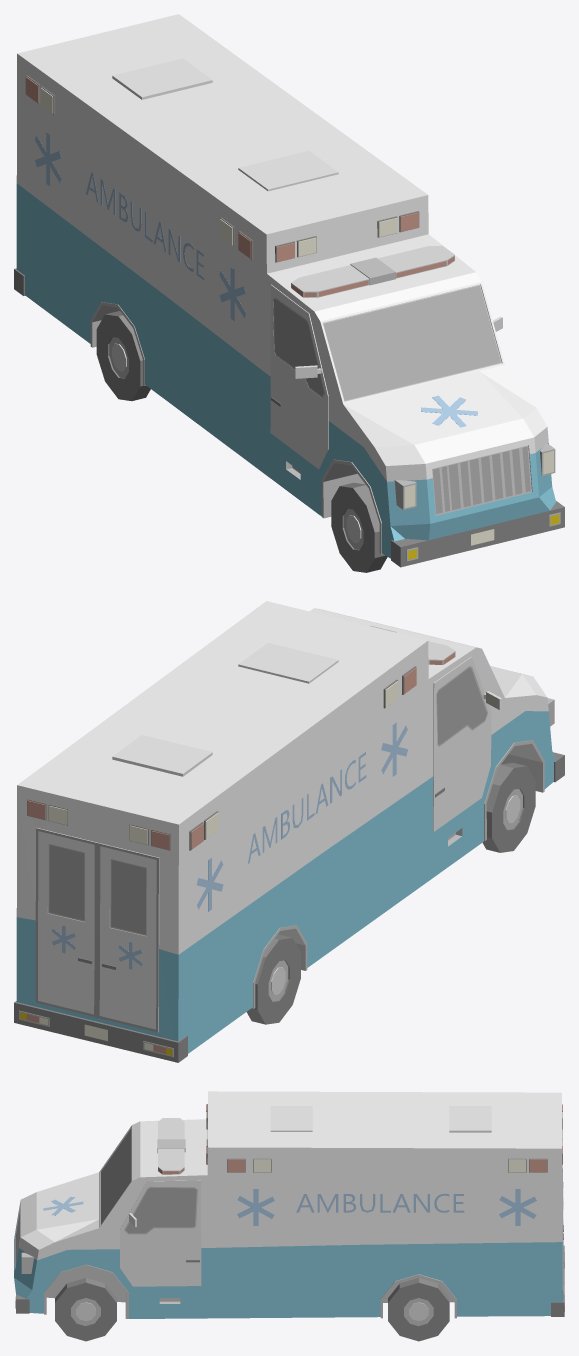
File: Ambulance_1.fbx
3 views of the same model, one above another, from view 1: azimuth 30°, elevation 25°; view 2: azimuth 150°, elevation 25°; view 3: azimuth 270°, elevation 25° (orthographic). The views are drawn at different scales.
Parts seen in each view (by area): view 1: ty, Cylinder_2_3, Cylinder_2_1; view 2: ty, Cylinder_2_3, Cylinder_2_1; view 3: ty, Cylinder_2_2, Cylinder_2.
Part boxes in pixels (x1=…): ty: x1=14, y1=14, x2=564, y2=567; Cylinder_2_3: x1=331, y1=482, x2=387, y2=572; Cylinder_2_1: x1=96, y1=311, x2=150, y2=401; ty: x1=14, y1=601, x2=564, y2=1062; Cylinder_2_3: x1=482, y1=762, x2=535, y2=852; Cylinder_2_1: x1=246, y1=934, x2=300, y2=1024; ty: x1=14, y1=1091, x2=564, y2=1318; Cylinder_2_2: x1=55, y1=1278, x2=116, y2=1341; Cylinder_2: x1=388, y1=1278, x2=449, y2=1341.
Bounding box in the file's own units: 89.23 × 113 × 290.
